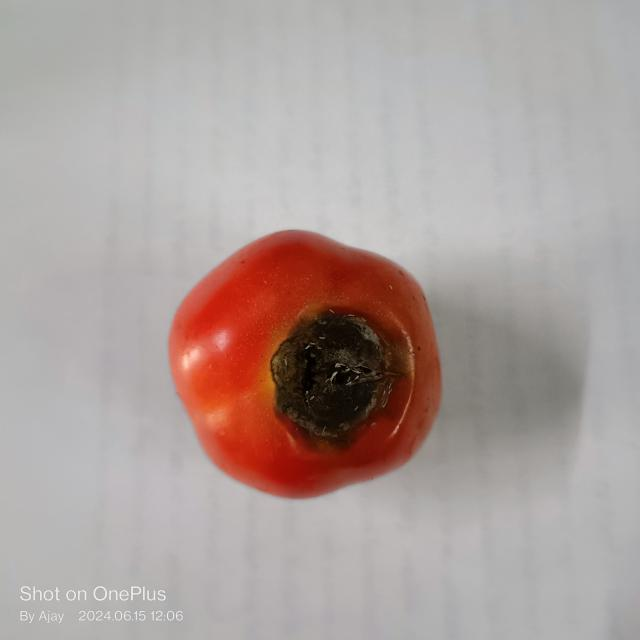Anthrocnose: (266, 299, 414, 452)
